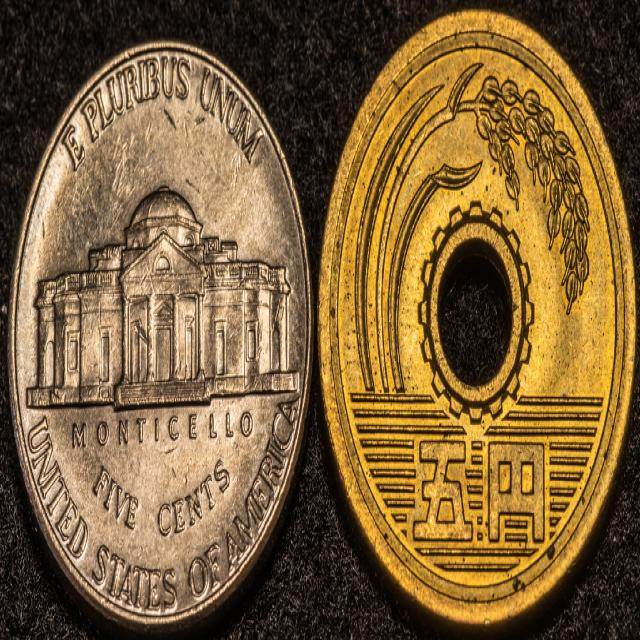Coin: (316, 0, 640, 639), (5, 41, 310, 617)
